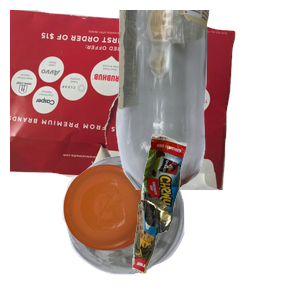glass: (113, 10, 300, 190)
paper: (10, 10, 238, 190)
plastic: (60, 152, 237, 300)
trash: (130, 131, 300, 300)
